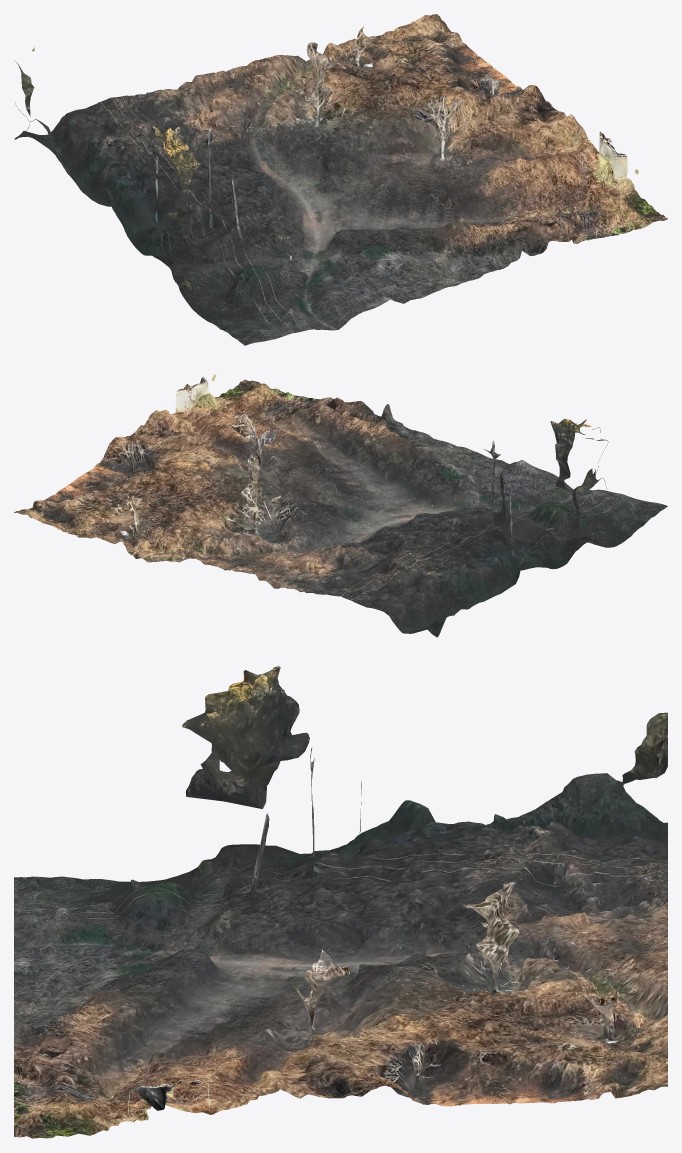
Rendered from BlockBBBB_L20_49.glb.
3 views of the same model, one above another, from view 1: azimuth 30°, elevation 25°; view 2: azimuth 150°, elevation 25°; view 3: azimuth 270°, elevation 25° (orthographic). The views are drawn at different scales.
Parts seen in each view (by area): view 1: rtc; view 2: rtc; view 3: rtc.
Part boxes in pixels (x1=…): rtc: x1=14, y1=14, x2=667, y2=345; rtc: x1=14, y1=374, x2=667, y2=637; rtc: x1=14, y1=666, x2=667, y2=1138.
Bounding box in the file's own units: 38.34 × 13.61 × 36.2.
8 materials, 8 textured.
